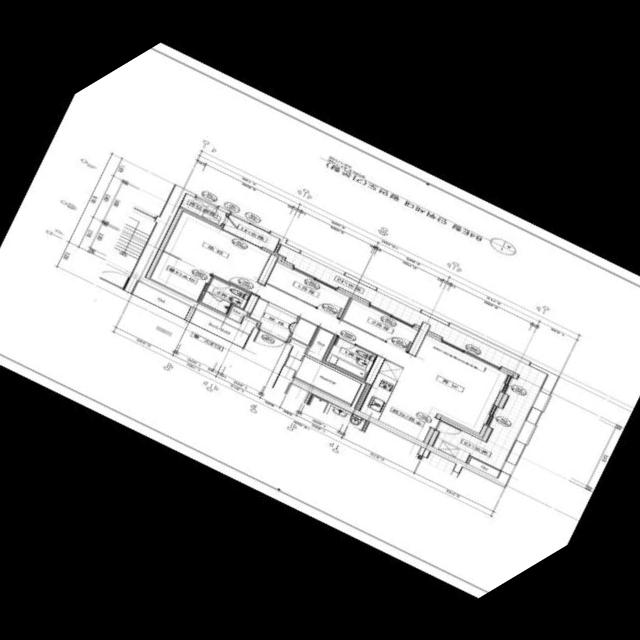background: (0, 42, 640, 598)
space_balconi: (426, 316, 546, 469), (277, 244, 429, 325), (222, 213, 279, 251)
space_bedroom: (159, 208, 270, 292), (266, 260, 349, 317), (342, 298, 417, 351)
space_dressroom: (145, 248, 210, 301)
space_elevator_hall: (89, 278, 291, 386)
space_front: (248, 297, 316, 345)
space_kitchen: (359, 358, 452, 443)
space_living_room: (258, 283, 507, 435)
space_other: (293, 355, 361, 403), (189, 308, 248, 347), (131, 280, 190, 318), (306, 327, 333, 361), (467, 457, 499, 477), (227, 305, 247, 322)
space_outdoor_room: (179, 193, 225, 225)
space_staircase: (99, 209, 155, 287)
space_toilet: (324, 336, 375, 379), (200, 276, 249, 312)
